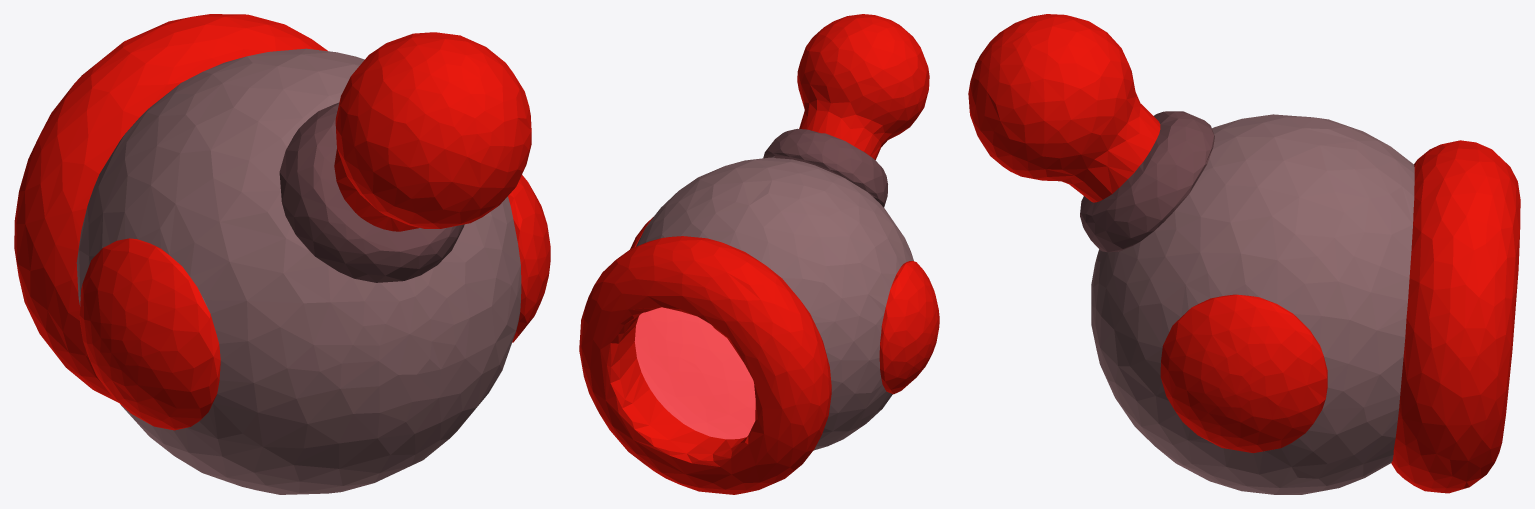
Rendered from Crank.glb.
The picture shows the model from 3 angles, left to right: view 1: azimuth 30°, elevation 25°; view 2: azimuth 150°, elevation 25°; view 3: azimuth 270°, elevation 25°; orthographic projection. The views are drawn at different scales.
Visible parts, largest first — view 1: Peep; view 2: Peep; view 3: Peep.
Boxes of the visible parts, x1,y1,x2,y2 form: Peep: (14, 14, 550, 494); Peep: (579, 14, 939, 494); Peep: (968, 14, 1520, 494).
Bounding box in the file's own units: 1.96 × 2.28 × 2.5.
